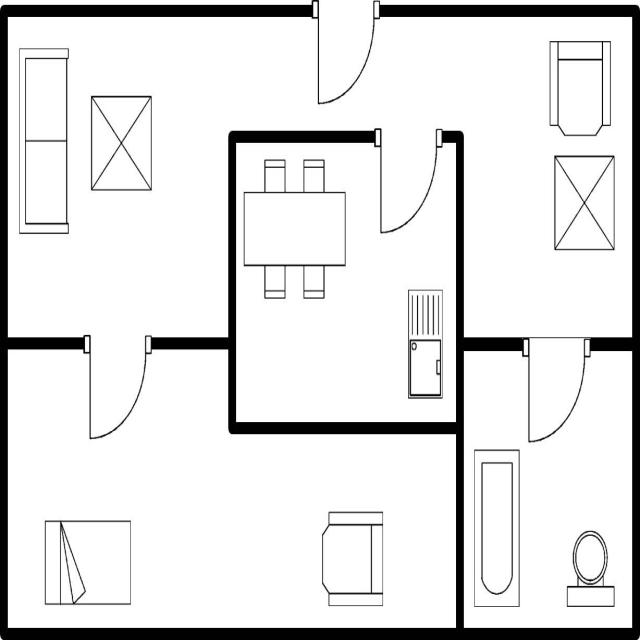armchair: (317, 506, 389, 611), (546, 32, 614, 142)
bed: (42, 514, 134, 608)
coffee_table: (86, 90, 156, 196), (550, 149, 616, 255)
dining_table: (240, 153, 354, 304)
large_sink: (564, 524, 620, 611)
large_sofa: (16, 42, 74, 240)
sink: (404, 283, 446, 403)
tub: (471, 446, 523, 612)
